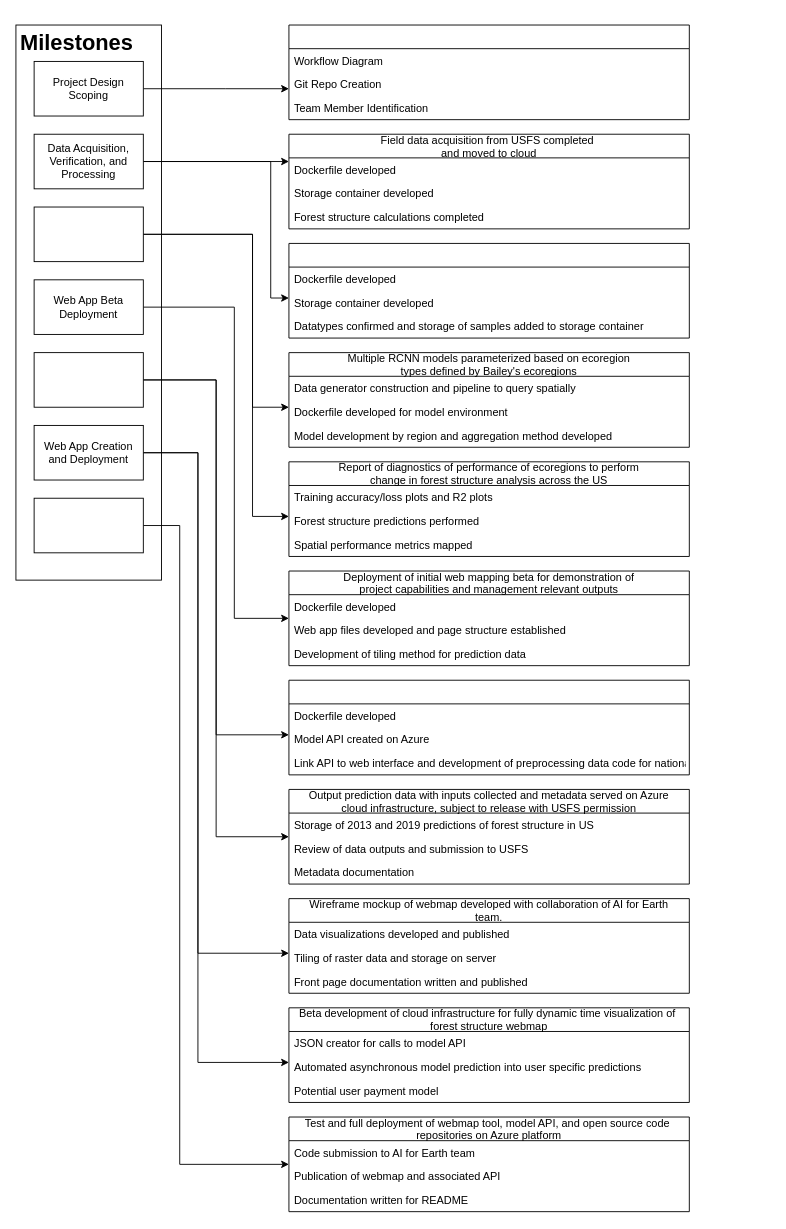
The diagram is 786 pixels wide and 1229 high, and some of its shapes have lost their labels. Here are the shapes that lost their labels. From the top down, the box of each, then its label:
(288, 24, 689, 120): Partner kickoff and project design suite
(33, 206, 143, 262): Model Development and Diagnostics
(288, 243, 689, 338): Remote sensing data verified and archived in cloud platform
(33, 352, 143, 407): Cloud Infrastructure Development and API Creation for Prediction
(33, 497, 143, 553): Final Release and Documentation
(288, 679, 689, 775): Model APIs constructed and used to predict change over time across the US
